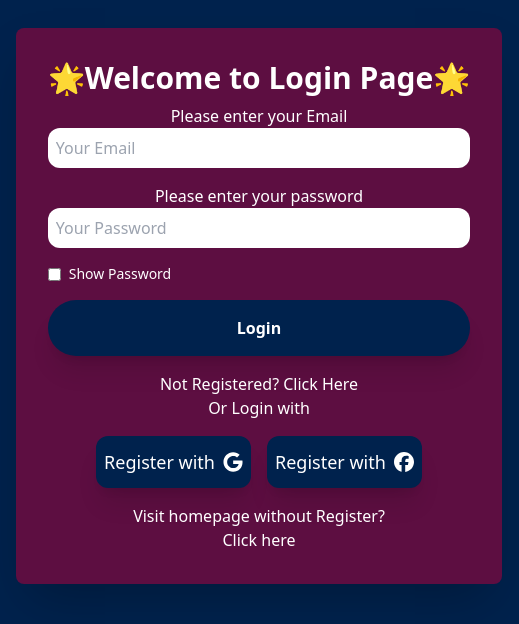
displays error message on login failure
Expected: the button "Login" is shown, [48, 300, 470, 356]
// Simulate typing email and password
Type "wrong@example.com" into the field with placeholder "Your Email". click: (259, 148)
box: [48, 128, 470, 168]
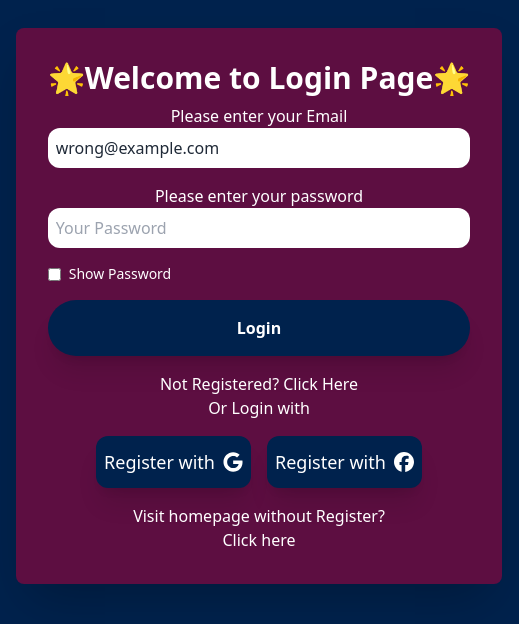
Type "wrongpassword" into the password field with placeholder "Your Password". click: (259, 228)
box: [48, 208, 470, 248]
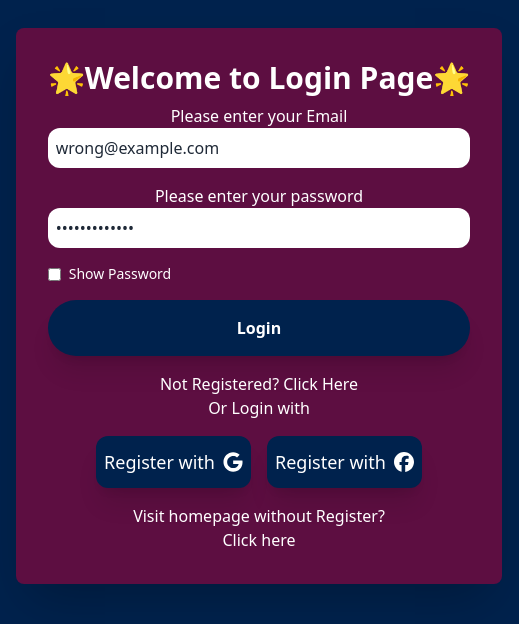
// Simulate clicking the Login button
Click the button "Login". click: (259, 328)
box: [48, 300, 470, 356]
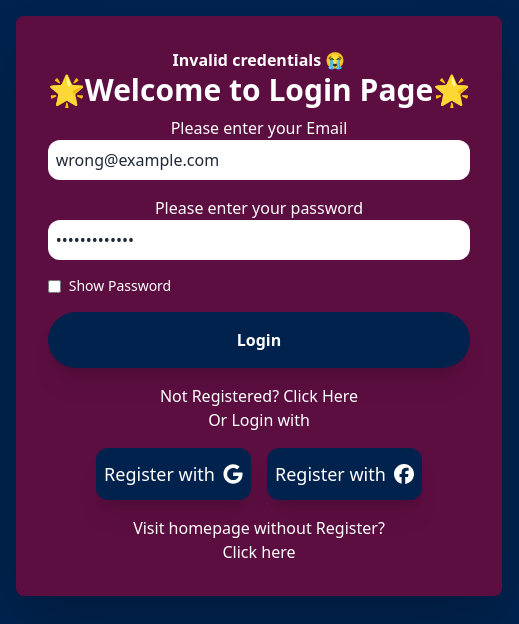
Now the text "Invalid credentials 😭" is shown, box [173, 49, 345, 71]
